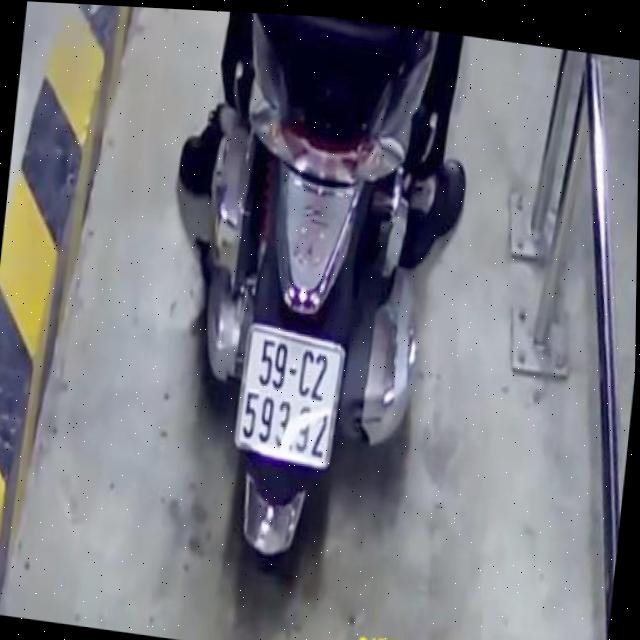motorcycle: (141, 8, 481, 627)
plate: (226, 319, 351, 475)
